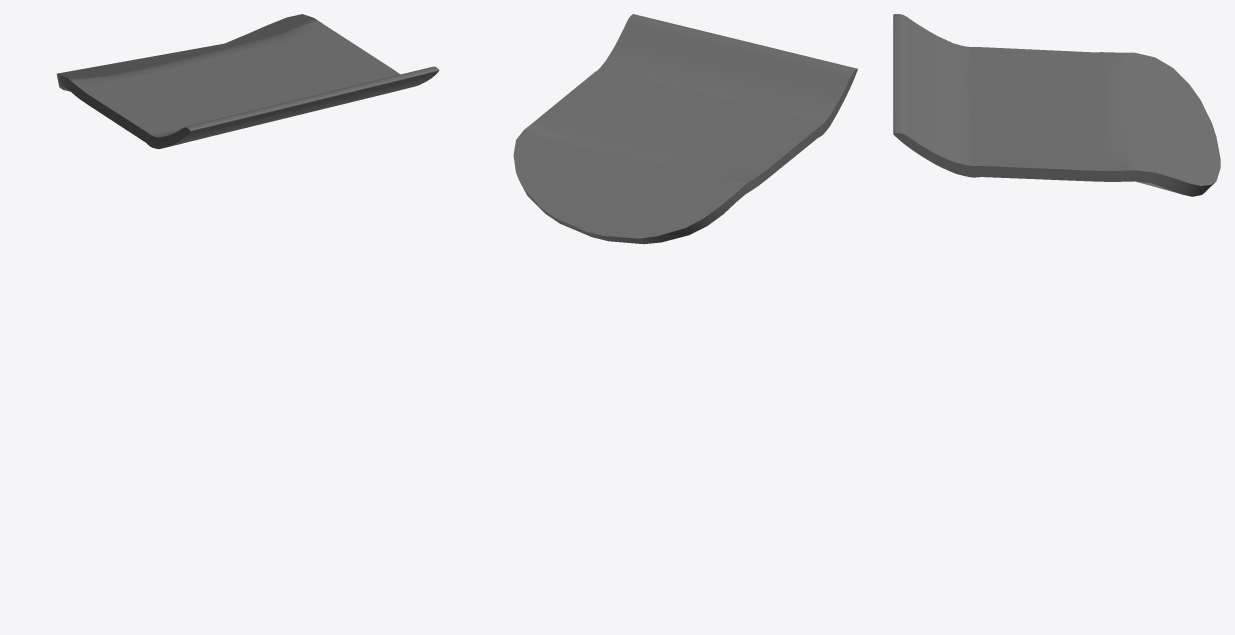
Rendered from Chair.fbx.
3 views of the same model, side by side, from view 1: azimuth 30°, elevation 25°; view 2: azimuth 150°, elevation 25°; view 3: azimuth 270°, elevation 25° (orthographic). The views are drawn at different scales.
Parts seen in each view (by area): view 1: polySurface147; view 2: polySurface147; view 3: polySurface147.
Boxes of the visible parts, x1,y1,x2,y2 form: polySurface147: (56,14,439,148); polySurface147: (513,14,857,244); polySurface147: (893,14,1220,196).
Bounding box in the file's own units: 0.5984 × 1.02 × 0.6272.
